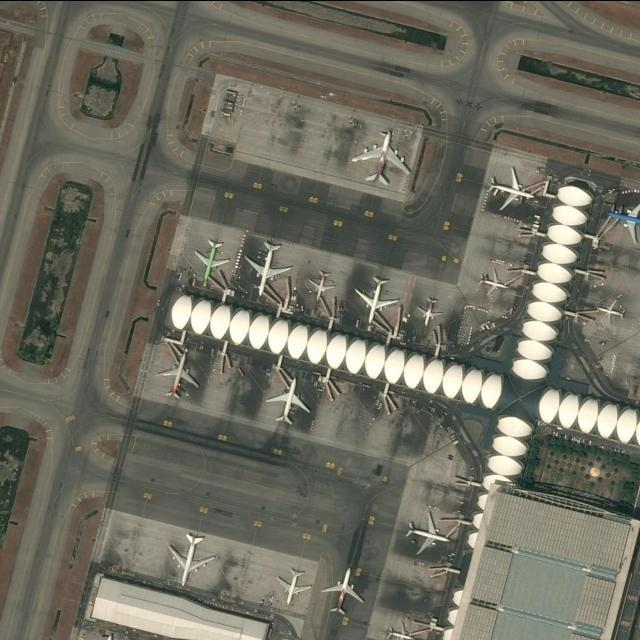Aircraft: (353, 128, 415, 186), (246, 241, 294, 297), (170, 532, 218, 586), (265, 375, 313, 425), (487, 165, 539, 210), (356, 274, 402, 324), (158, 348, 205, 396), (322, 566, 368, 614), (405, 513, 453, 555), (196, 237, 234, 283), (607, 195, 640, 241), (280, 567, 313, 603), (598, 296, 630, 322), (418, 294, 444, 326), (311, 268, 337, 298), (479, 269, 511, 293), (388, 621, 419, 640)
